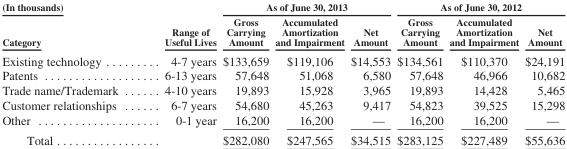table: (1, 1, 564, 146)
table column: (1, 1, 140, 146), (140, 1, 218, 146), (445, 1, 521, 146), (271, 1, 346, 146), (218, 1, 271, 146), (393, 1, 445, 146), (346, 1, 393, 146), (521, 1, 564, 146)
table column header: (1, 1, 564, 50)
table row: (1, 14, 564, 50), (1, 50, 564, 67), (1, 112, 564, 129), (1, 129, 564, 146), (1, 67, 564, 82), (1, 82, 564, 97), (1, 97, 564, 112), (1, 1, 564, 14)
table spanning cell: (1, 1, 140, 50), (140, 1, 218, 50), (218, 1, 393, 14), (393, 1, 564, 14)
